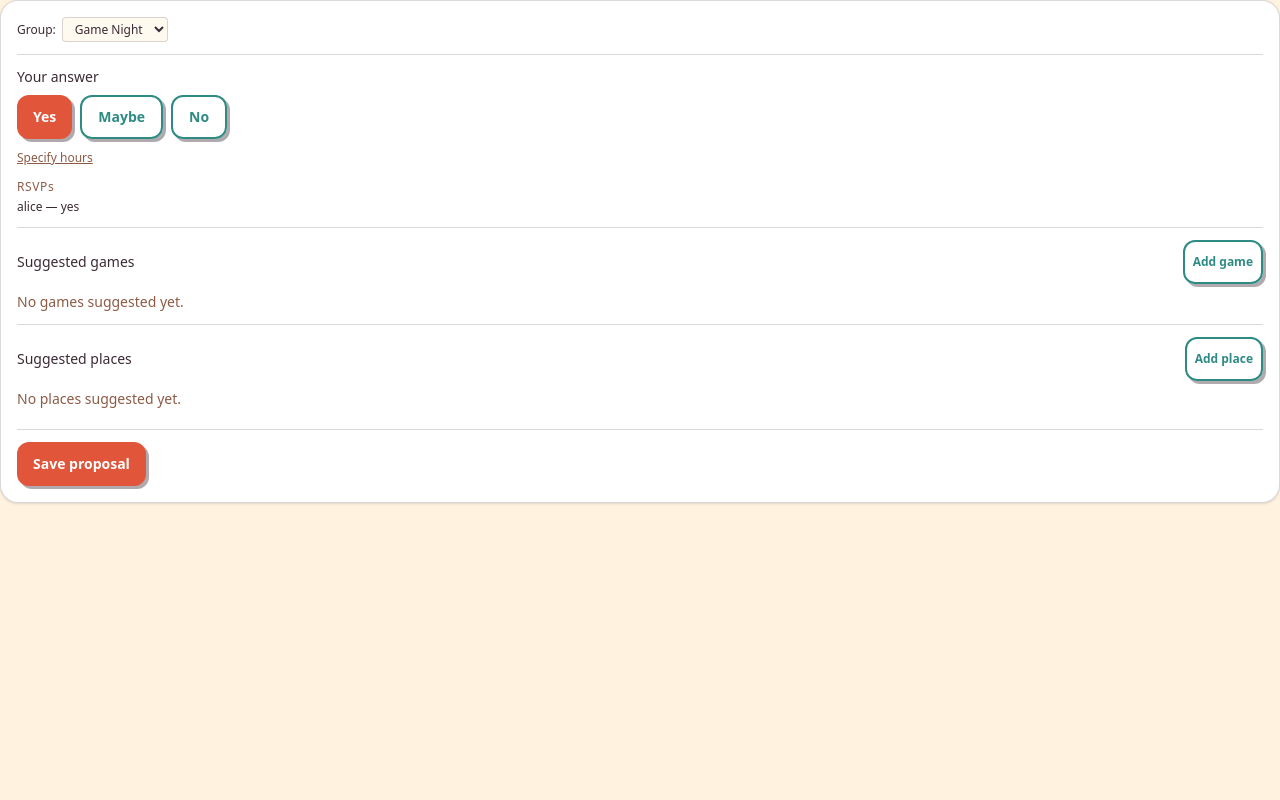
Scenario: InlineProposalPanel › adds a place to a draft before the proposal is saved
This screenshot has width=1280, height=800.
Click the button "Add place" at (1224, 359), box [1185, 337, 1263, 381]
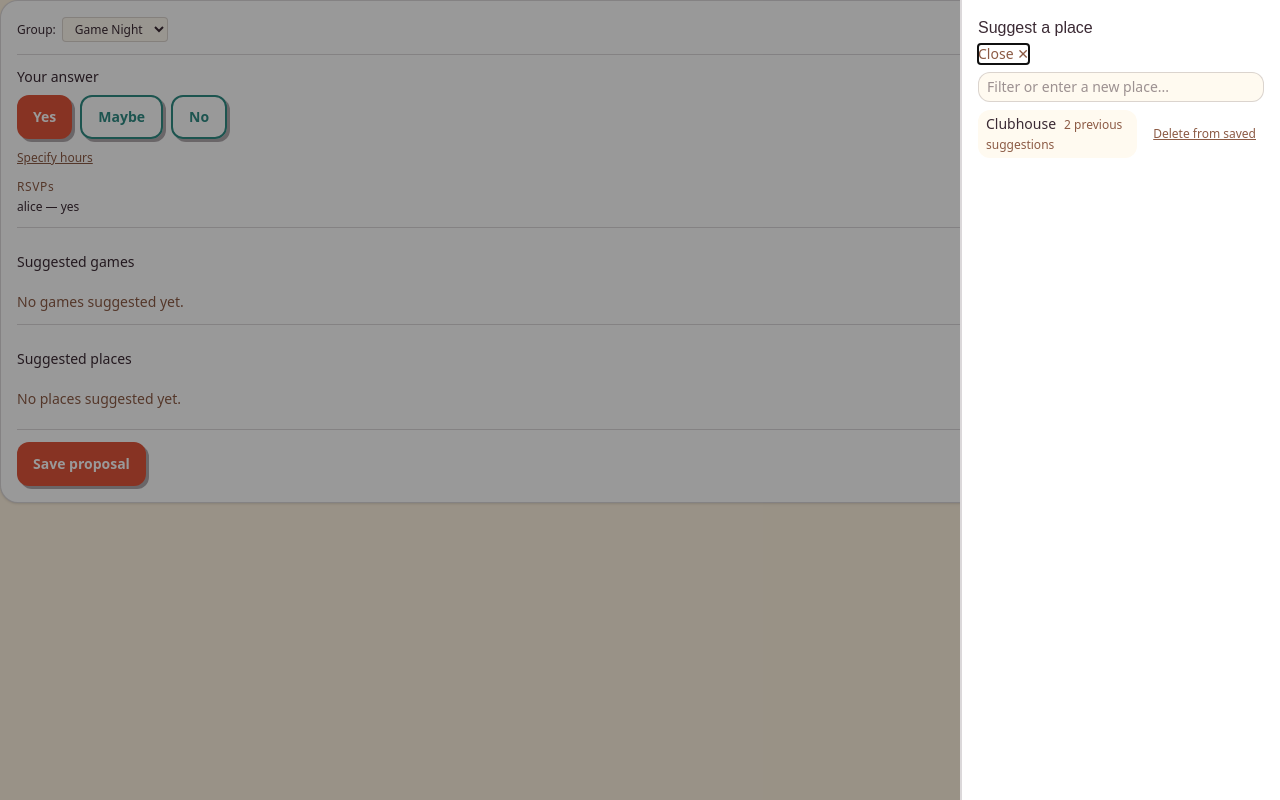
Click the button "Clubhouse2 previous suggestions" at (1058, 134), box [978, 110, 1137, 158]
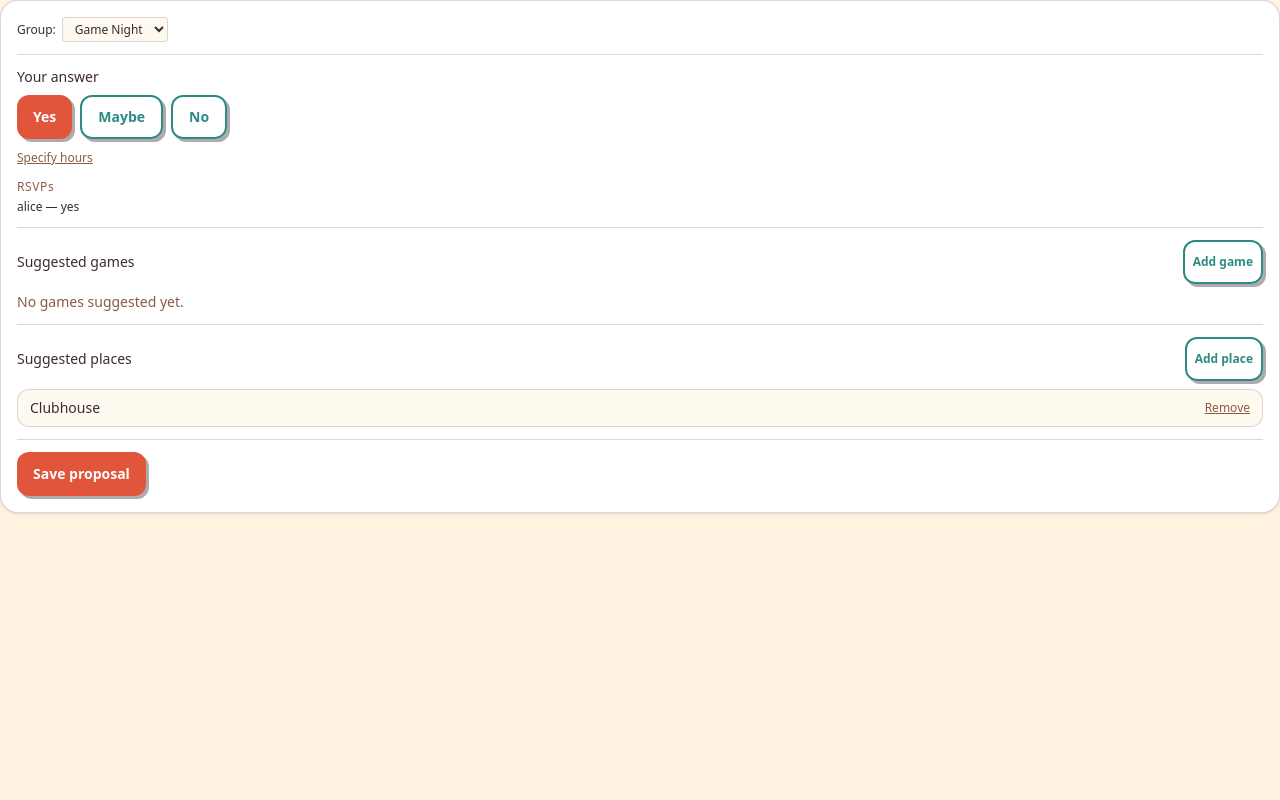
expect the text "Clubhouse" is shown: met, box [30, 398, 100, 418]
expect the button "Remove" is shown: met, box [1205, 400, 1250, 416]
